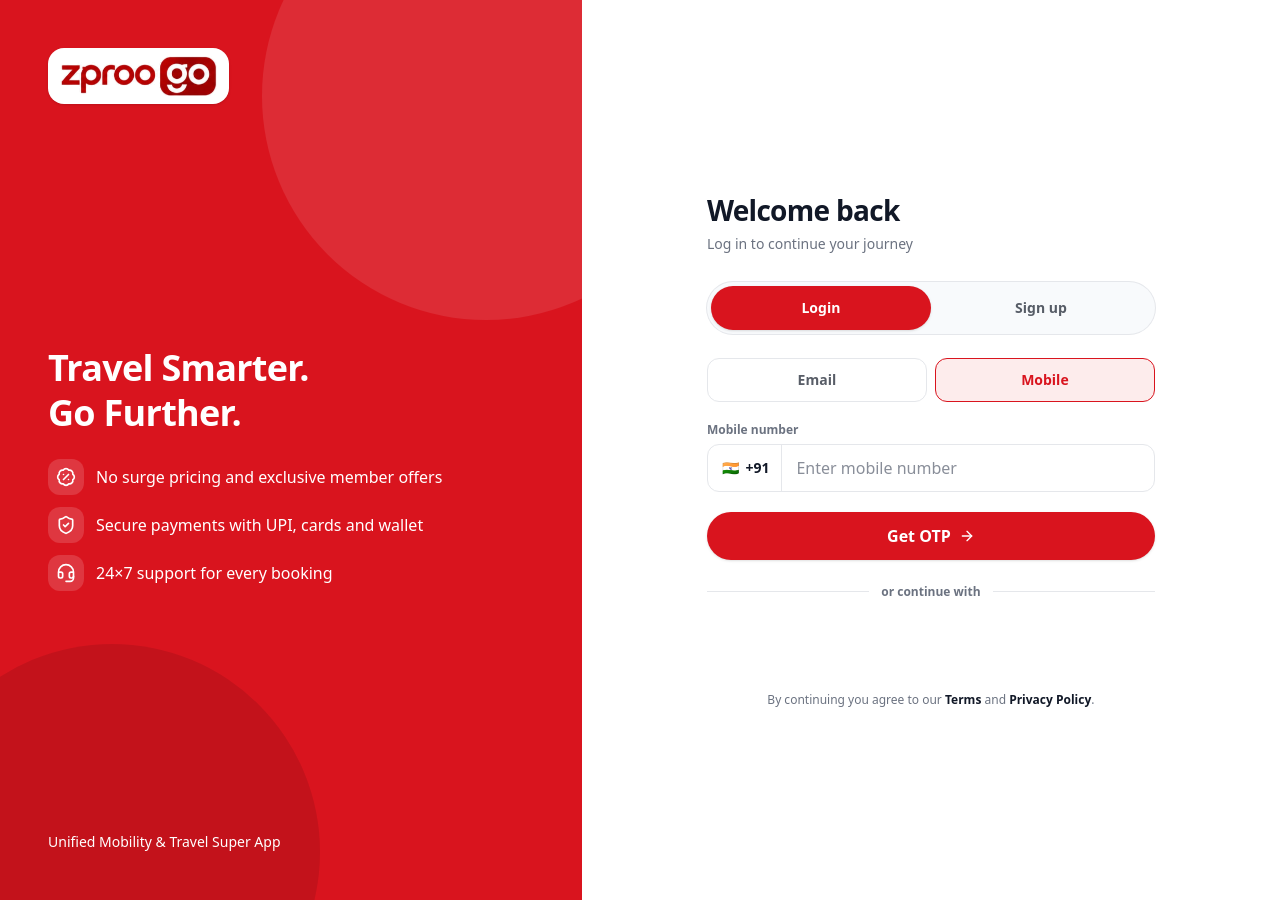
Scenario: password login › shows invalid credentials and clears the password
Click the radio button labelled "Email" at (817, 380), box [707,358,927,402]
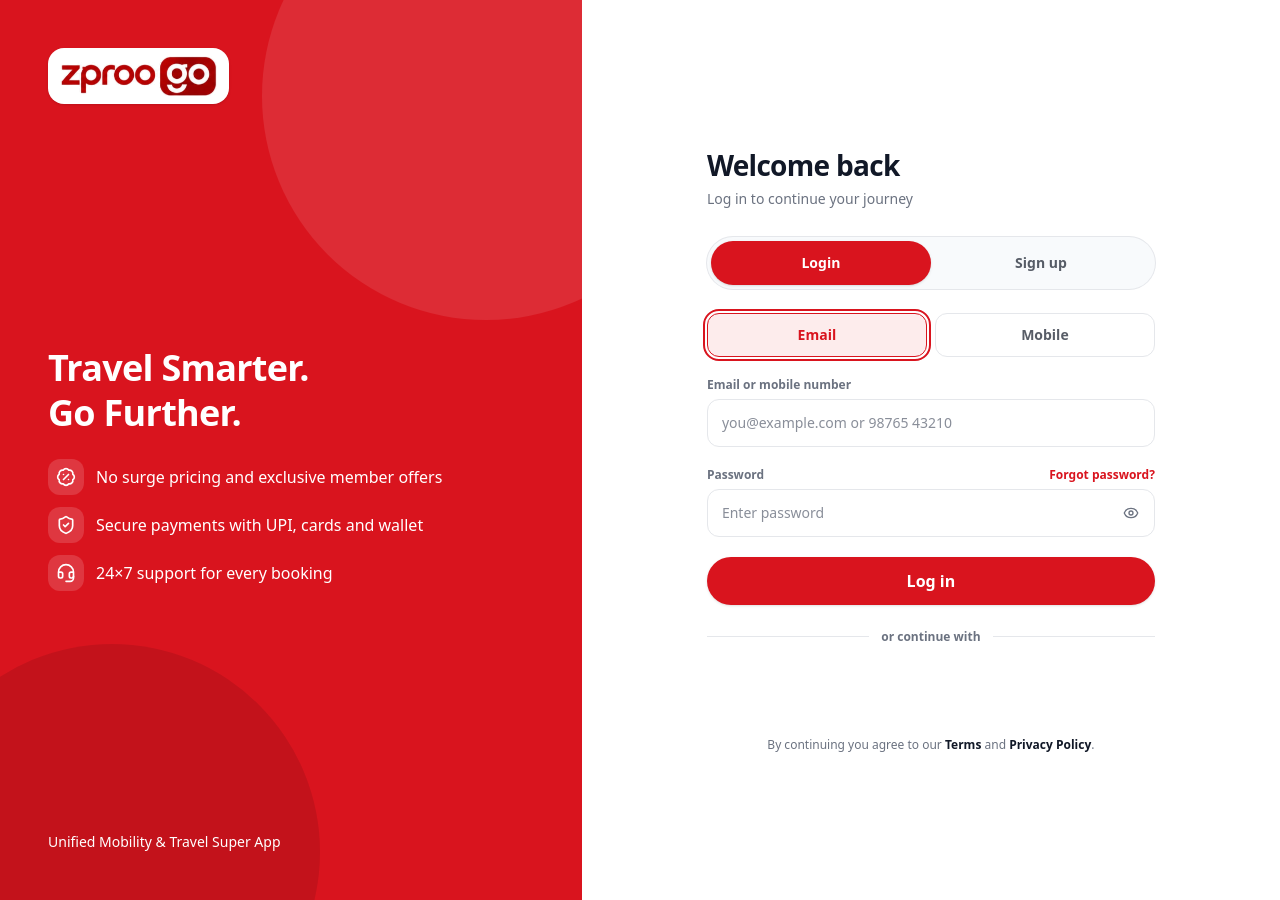
Type "9876543210" into the field labelled "Email or mobile number" at (931, 422), box [707,398,1155,446]
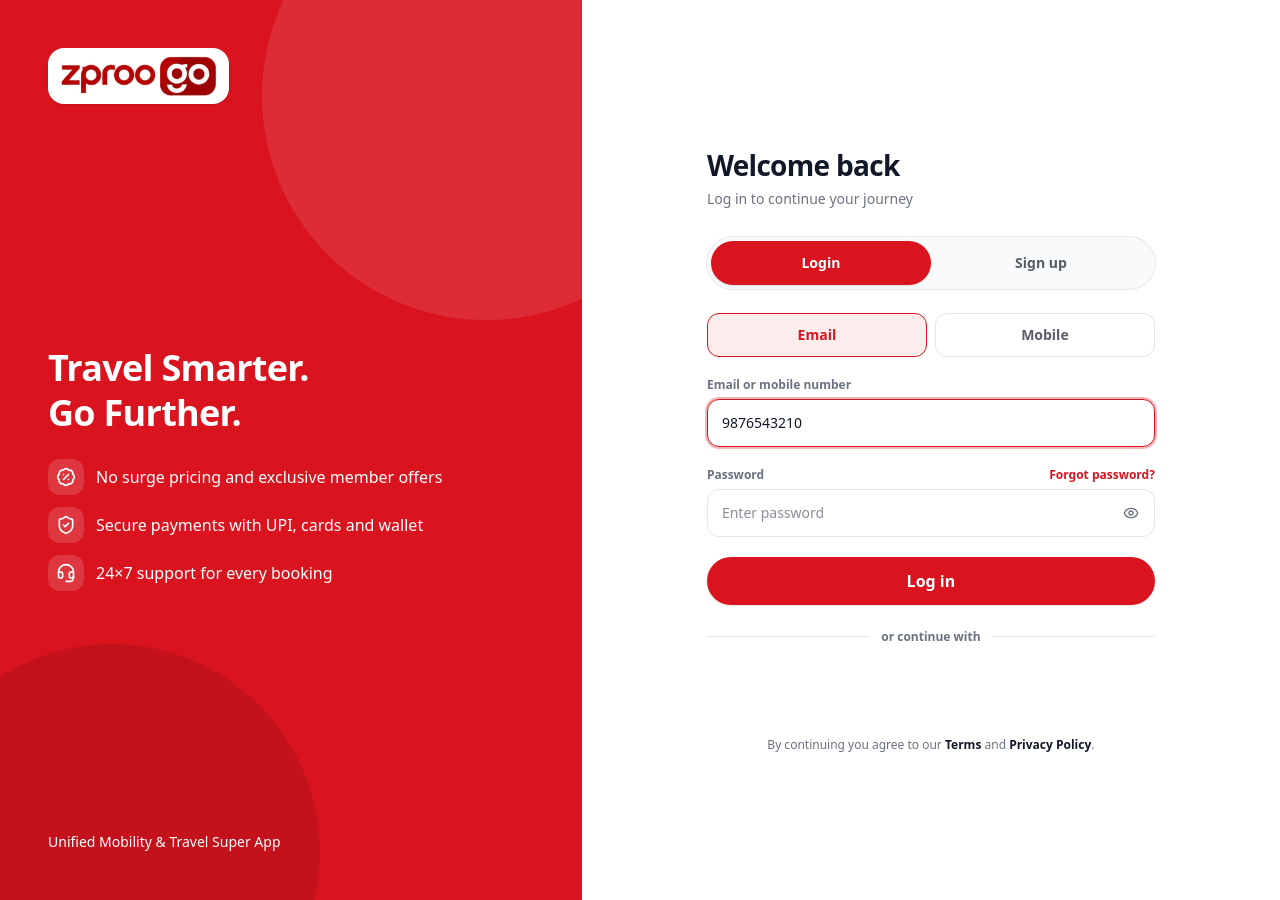
Type "wrongpass1" into the password field labelled "Password" at (931, 512), box [707,488,1155,536]
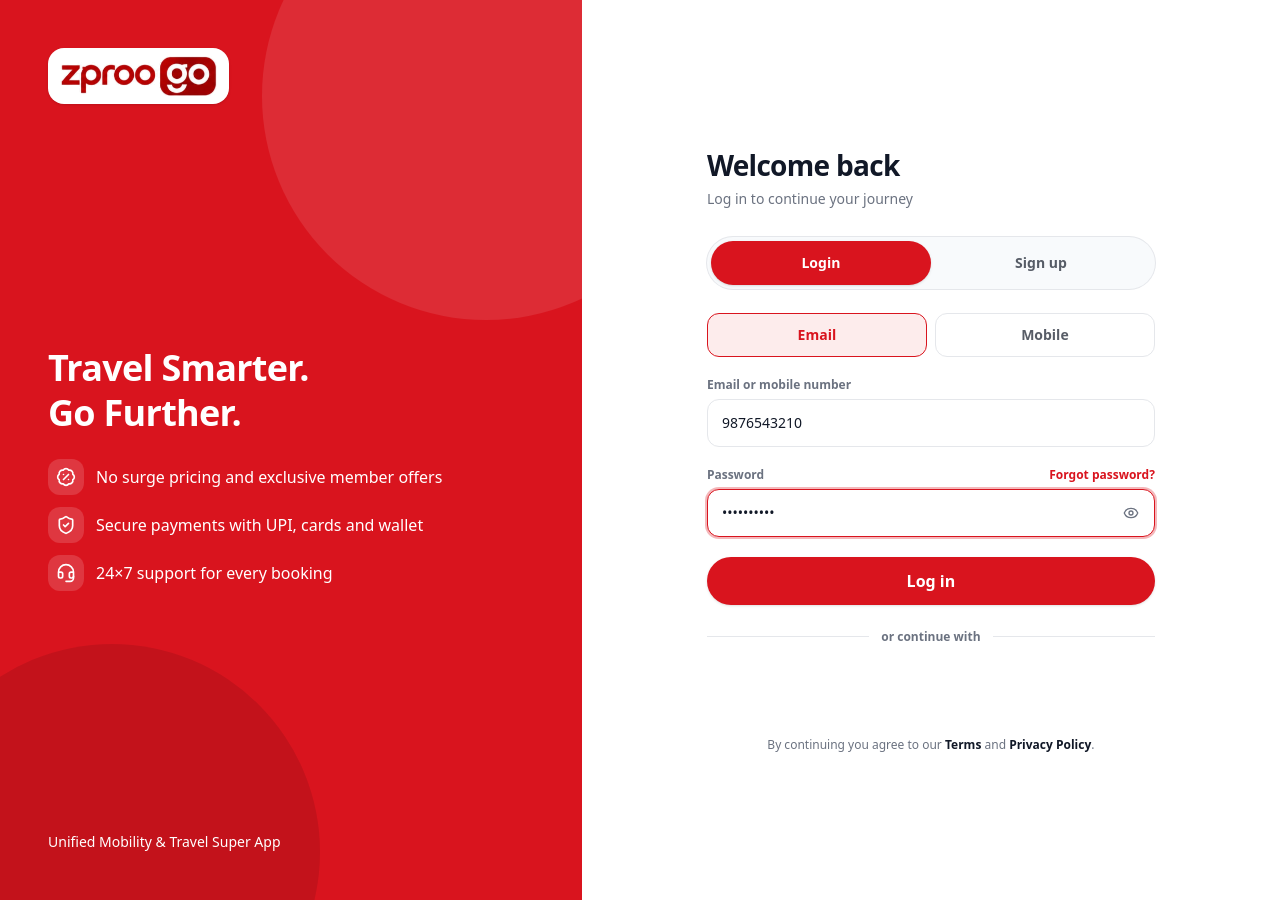
Click the button "Log in" at (931, 580), box [707,556,1155,604]
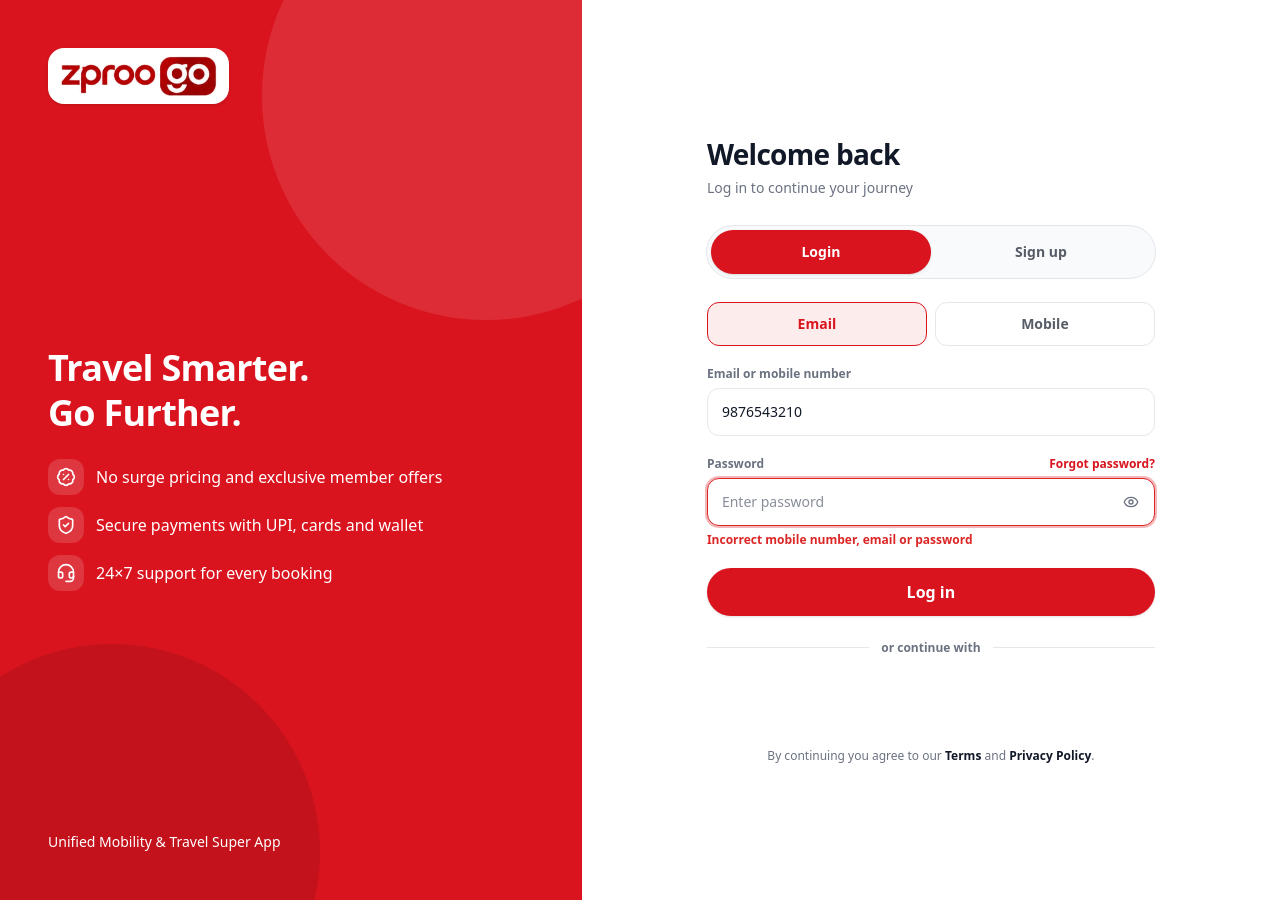
Check: the text with test id "field-error-password" reads "Incorrect mobile number, email or password", box [707,530,972,548]
Check: the password field labelled "Password" is empty, box [707,478,1155,526]
